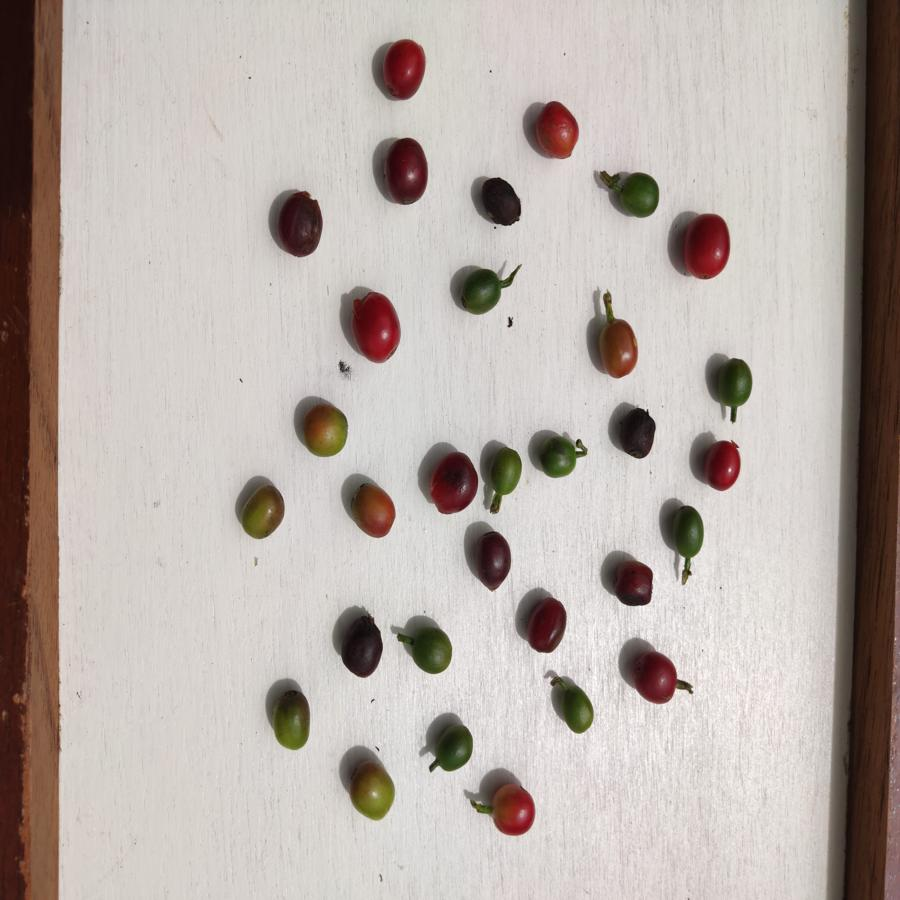Inmaduro: (713, 354, 758, 409), (409, 625, 453, 679), (616, 171, 661, 219), (535, 435, 580, 481), (669, 504, 706, 559), (434, 724, 475, 773), (560, 686, 597, 739), (461, 268, 501, 315), (489, 447, 522, 494)
Maduro: (353, 292, 404, 364), (684, 212, 733, 284), (535, 99, 581, 165), (379, 40, 429, 99), (701, 437, 744, 496), (489, 786, 536, 835)
Pinton: (348, 762, 397, 823), (350, 481, 399, 540), (599, 316, 640, 383), (271, 687, 312, 754), (239, 484, 288, 539), (301, 404, 349, 458)
Sobremaduro: (277, 190, 326, 260), (430, 452, 480, 518), (384, 137, 430, 206), (339, 616, 386, 680), (634, 649, 679, 708), (616, 409, 659, 465), (610, 559, 656, 611), (475, 530, 514, 591), (525, 598, 568, 653), (481, 177, 525, 230)
